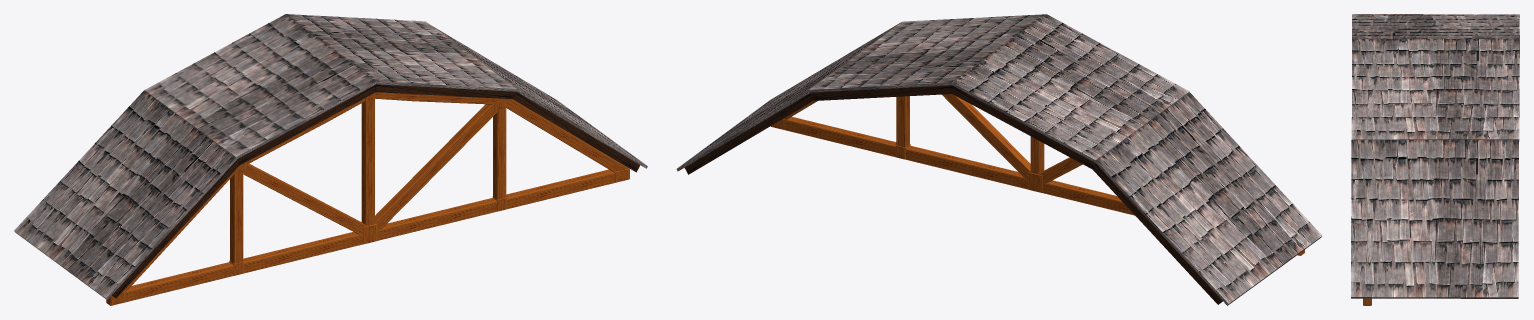
The model's file is roof.dae.
The picture shows the model from 3 angles, left to right: view 1: azimuth 30°, elevation 25°; view 2: azimuth 150°, elevation 25°; view 3: azimuth 270°, elevation 25°; orthographic projection. The views are drawn at different scales.
Visible parts, largest first — view 1: polySurface29, polySurface30, EF, CE, EG, DE, BE, AC, GH, FH, BC, FG (+3 smaller); view 2: polySurface29, polySurface30, EG, GH, EF, CE, FG, BE, DE; view 3: polySurface29.
Boxes of the visible parts, x1,y1,x2,y2 form: polySurface29: (14,14,647,299); polySurface30: (112,84,640,298); EF: (374,103,497,231); CE: (243,232,363,273); EG: (378,198,496,240); DE: (361,99,374,226); BE: (243,163,365,235); AC: (106,262,233,305); GH: (506,169,628,208); FH: (506,99,628,172); BC: (230,171,243,263); FG: (493,99,506,199); polySurface29: (676,14,1322,305); polySurface30: (685,85,1222,304); EG: (906,145,1027,189); GH: (771,116,896,156); EF: (942,94,1030,180); CE: (1042,180,1134,215); FG: (896,96,909,147); BE: (1039,157,1082,184); DE: (1030,136,1044,174); polySurface29: (1351,14,1519,298).
Size of the model in its own units: 16.74 by 4.9 by 4.95.
